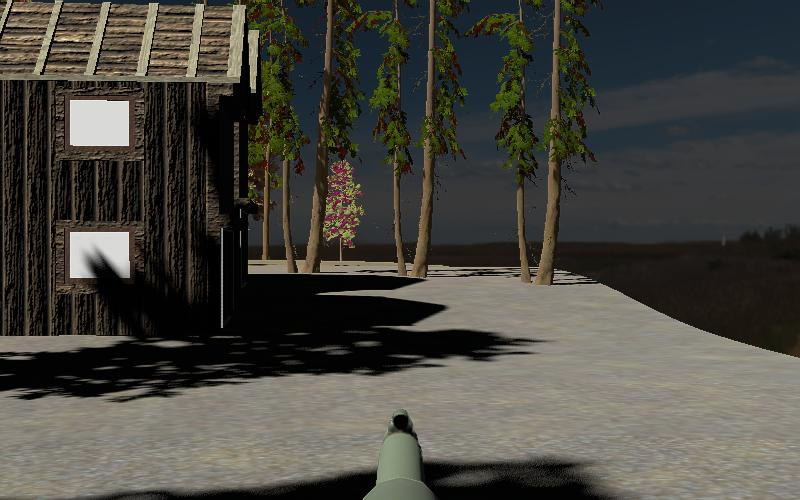House: (1, 1, 265, 340)
